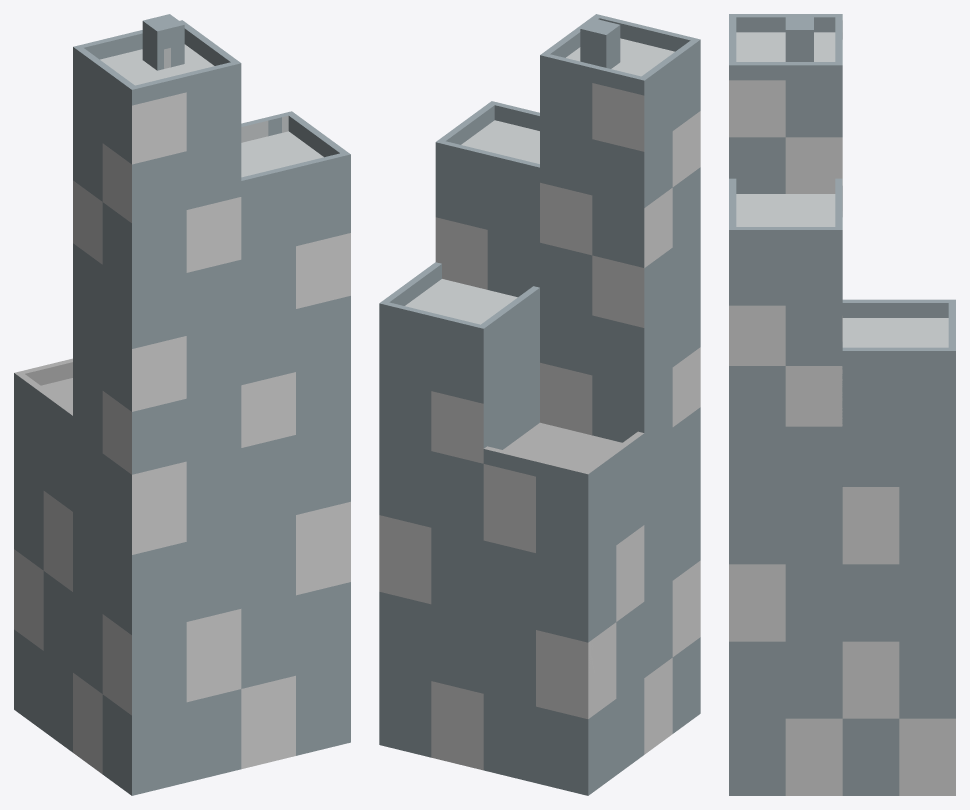
The model's file is Hochhaus2.fbx.
3 renders of one model, left to right at view 1: azimuth 30°, elevation 25°; view 2: azimuth 150°, elevation 25°; view 3: azimuth 270°, elevation 25°, orthographic. The views are drawn at different scales.
Parts seen in each view (by area): view 1: mesh_1959511441; view 2: mesh_1959511441; view 3: mesh_1959511441.
Part boxes in pixels (bbox=[...]): mesh_1959511441: bbox=[14, 14, 350, 795]; mesh_1959511441: bbox=[379, 14, 700, 795]; mesh_1959511441: bbox=[729, 14, 955, 795].
Bounding box in the file's own units: 29.16 × 92.88 × 27.19.
